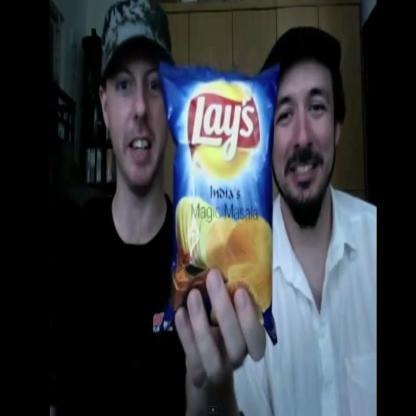indian_magic_masala: (159, 63, 279, 339)
